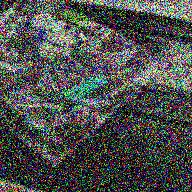러키펜정: (31, 12, 55, 31)
씨엠지세파클러캡슐: (33, 30, 56, 62)
에르도캡슐: (62, 74, 107, 103)
휴티렌정: (59, 10, 96, 30)
